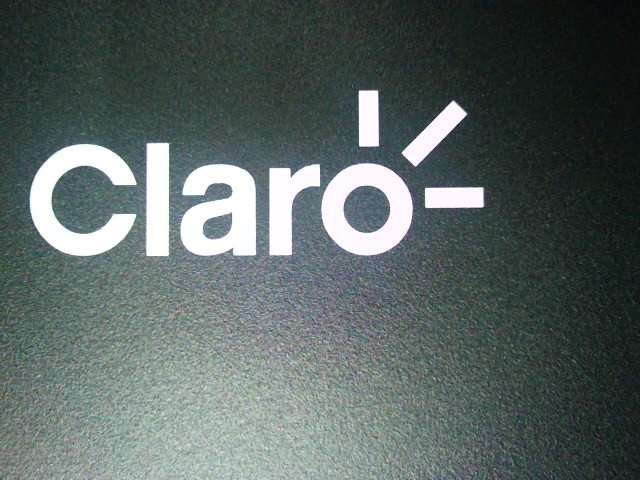BC_Claor: (25, 87, 505, 265)
